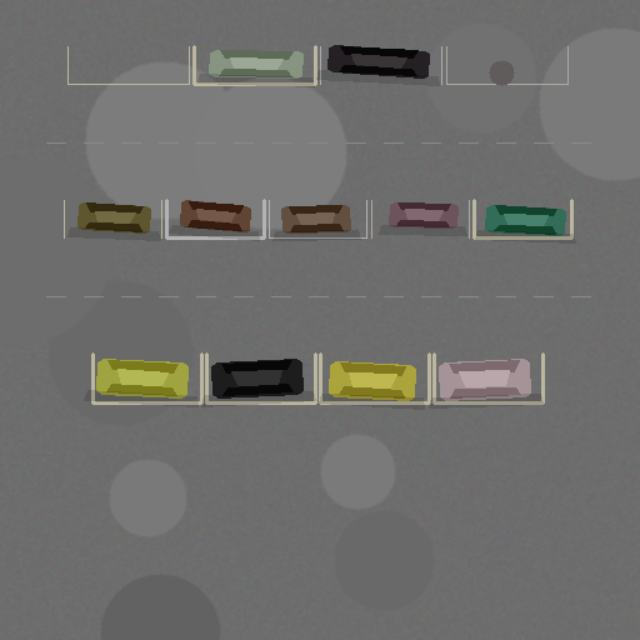space-empty: (67, 46, 189, 84), (446, 46, 567, 84)
space-occupied: (92, 354, 201, 402), (206, 354, 315, 402), (320, 354, 429, 402), (434, 354, 542, 402), (194, 46, 315, 84), (320, 46, 441, 84), (166, 200, 264, 238), (371, 200, 469, 238), (64, 200, 161, 238), (269, 200, 366, 238), (474, 200, 571, 238)
